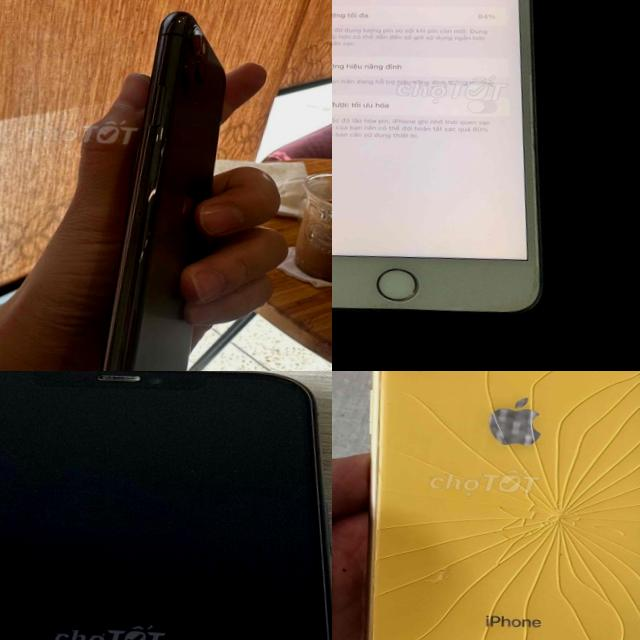gen_11: (100, 12, 225, 371)
gen_12_13: (0, 371, 332, 640)
gen_7_8: (332, 0, 569, 318)
gen_x_xs: (347, 371, 640, 640)
physical_damage: (370, 371, 640, 640)
scratch: (520, 254, 542, 304)
